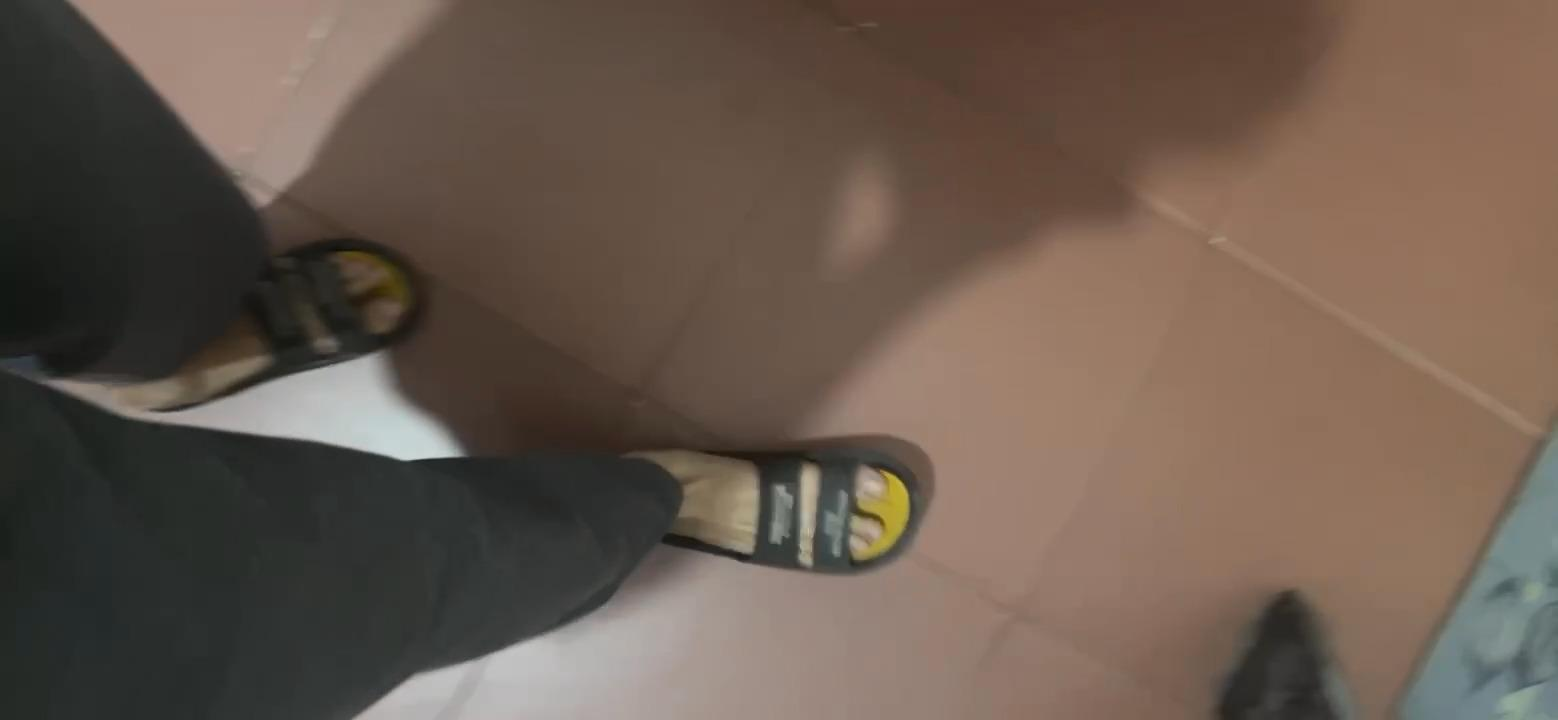no-boot: (111, 235, 439, 397), (619, 419, 924, 581)
